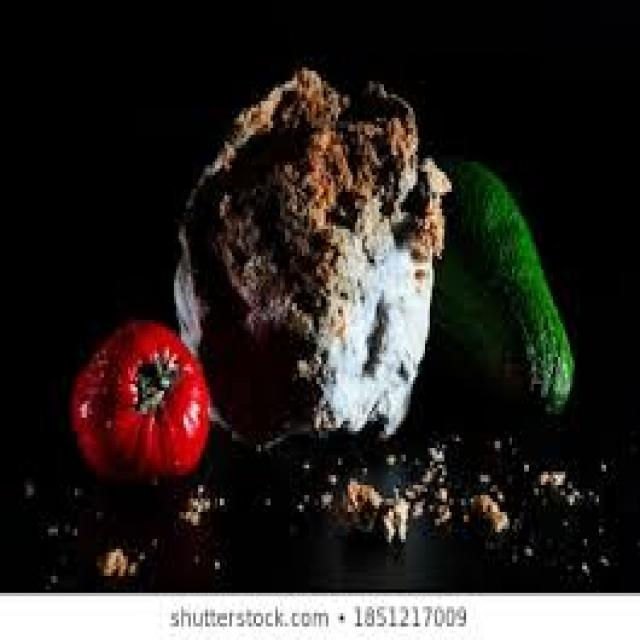organic waste: (169, 61, 452, 451), (427, 152, 570, 408), (65, 313, 208, 482), (336, 475, 376, 525), (372, 488, 410, 539), (461, 488, 505, 529), (176, 492, 210, 522), (99, 542, 128, 573)
